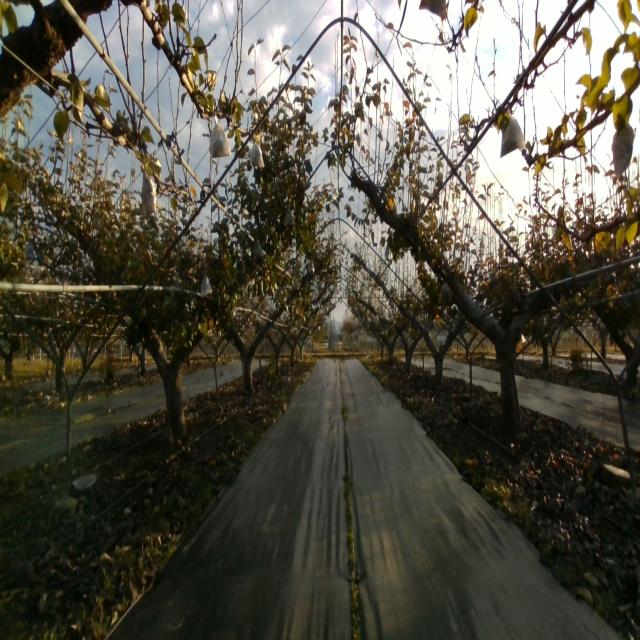pearbags: (612, 122, 636, 178), (500, 112, 526, 158), (210, 115, 230, 161), (140, 164, 156, 218), (249, 132, 265, 170), (439, 281, 454, 304), (200, 272, 213, 298), (284, 203, 296, 228), (253, 239, 264, 264)
